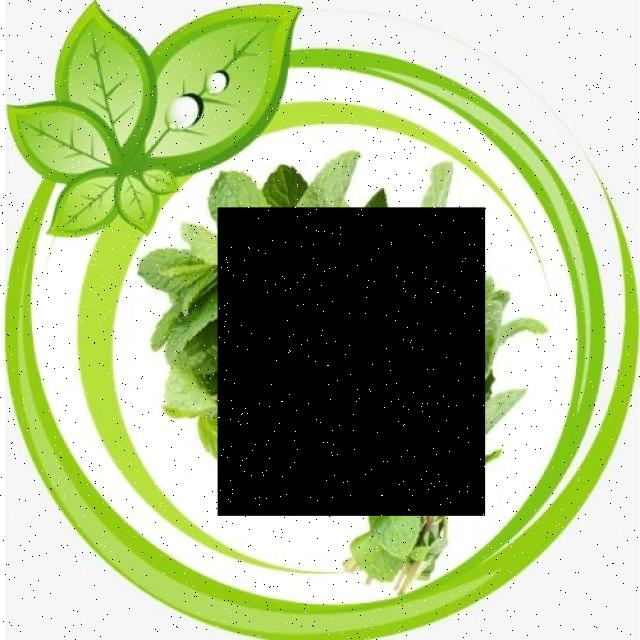Green_Mint: (218, 208, 485, 516)
